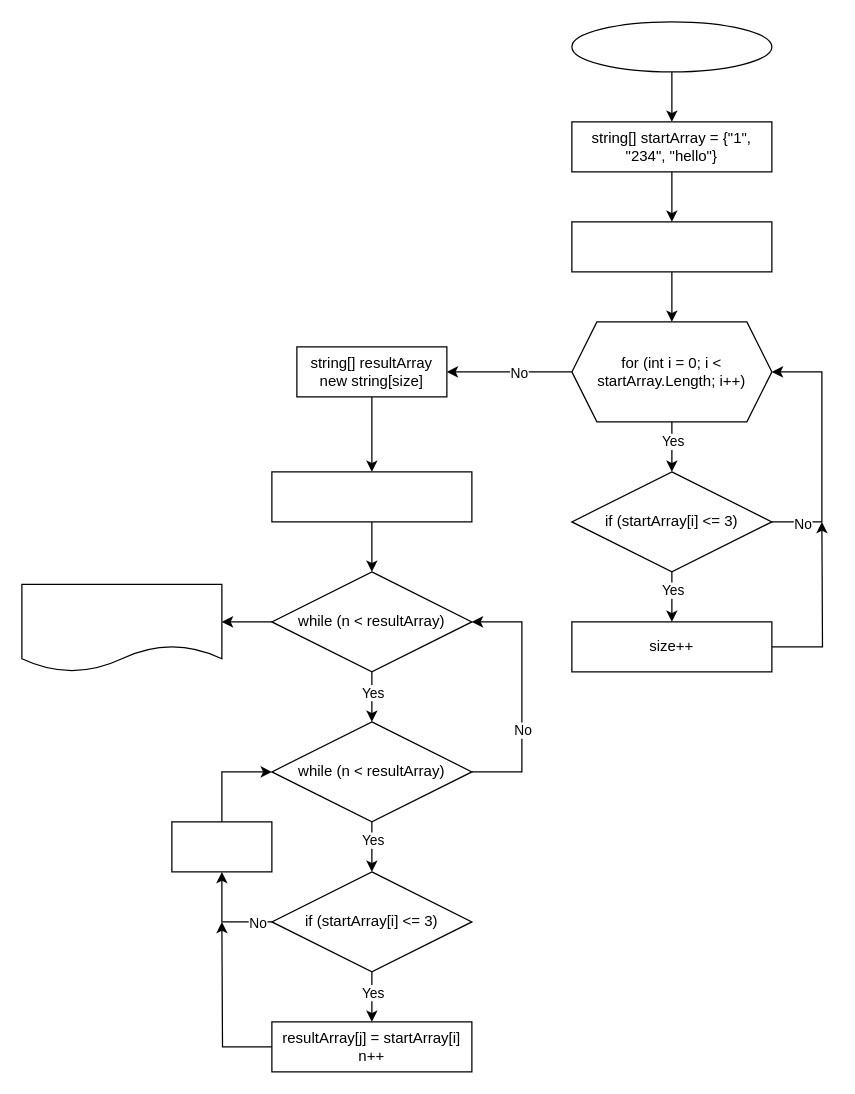
The diagram is 855 pixels wide and 1094 high, and some of its shapes have lost their labels. Here are the shapes that lost their labels. From the top down, the centre of each, then its label:
(x=671, y=46): Start
(x=671, y=246): int size = 0
(x=371, y=496): int j = 0 int n = 0
(x=121, y=627): Console.Write(resultArray)
(x=221, y=846): j++
